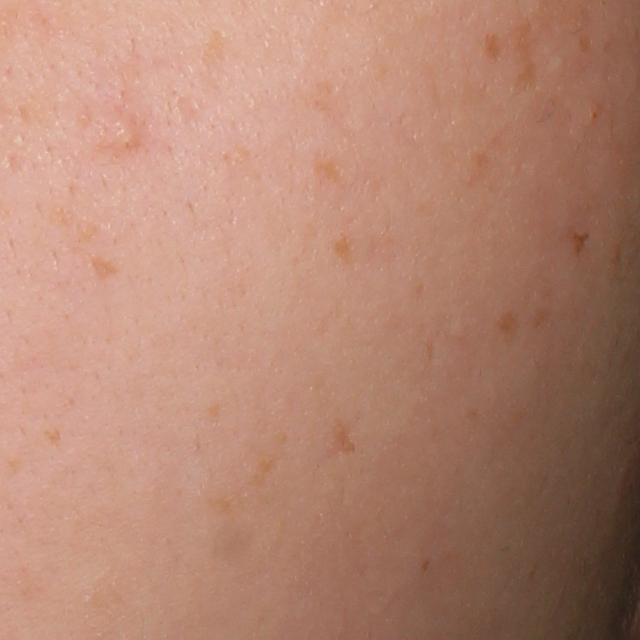comedo: (107, 117, 140, 150)
melasma: (479, 9, 549, 96), (194, 31, 234, 79), (319, 421, 365, 460), (308, 152, 353, 190), (331, 231, 358, 267), (87, 257, 125, 282), (493, 308, 517, 339), (569, 228, 591, 259), (41, 426, 61, 445)
